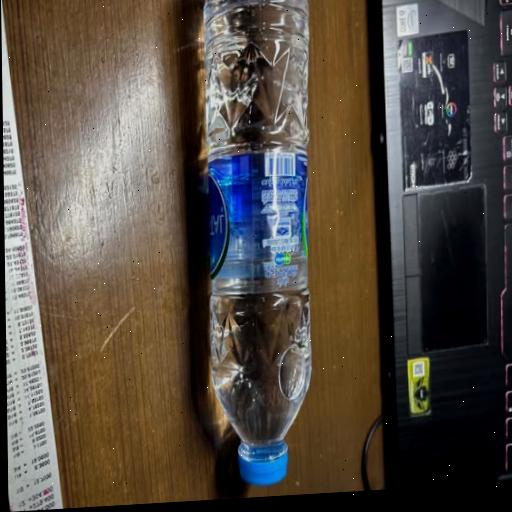bottle: (175, 0, 356, 502)
